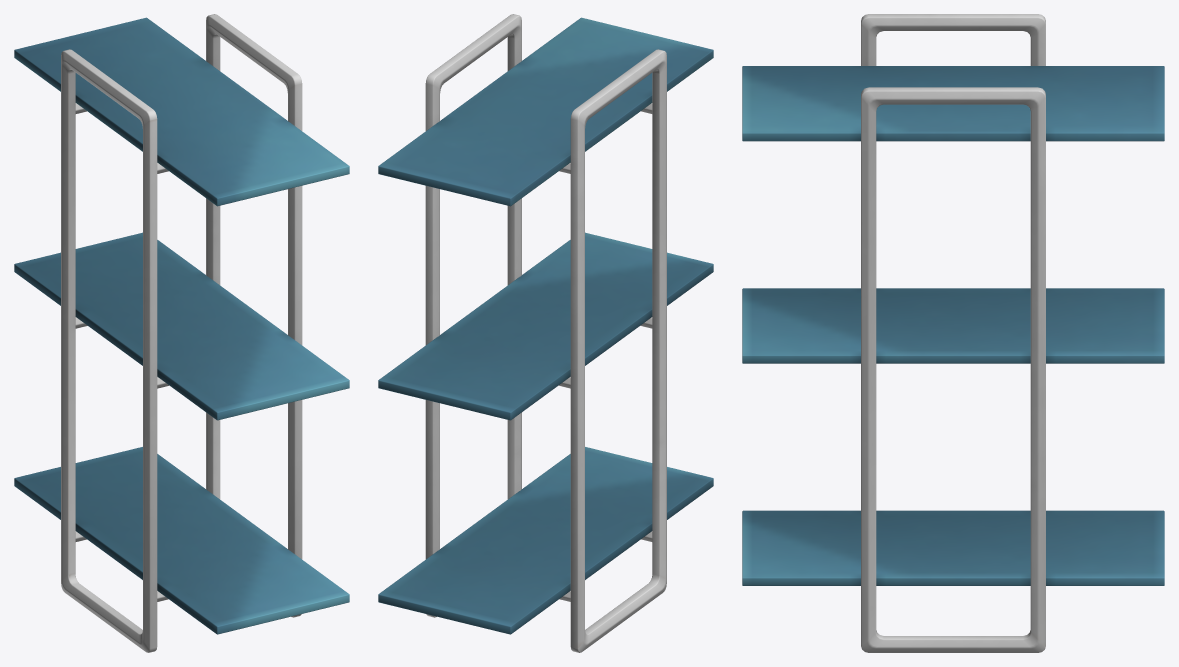
File: EE_WallMountShelves_03.gltf
3 views of the same model, side by side, from view 1: azimuth 30°, elevation 25°; view 2: azimuth 150°, elevation 25°; view 3: azimuth 270°, elevation 25° (orthographic). The views are drawn at different scales.
Visible parts, largest first — view 1: EE_WallMountShelves_03.001; view 2: EE_WallMountShelves_03.001; view 3: EE_WallMountShelves_03.001.
Part boxes in pixels (bbox=[...]): EE_WallMountShelves_03.001: bbox=[14, 14, 349, 652]; EE_WallMountShelves_03.001: bbox=[378, 14, 713, 652]; EE_WallMountShelves_03.001: bbox=[742, 14, 1164, 652].
Size of what is drawn, in the model's own units: 0.3729 by 1.22 by 0.8312.
3 materials, 3 textured.
